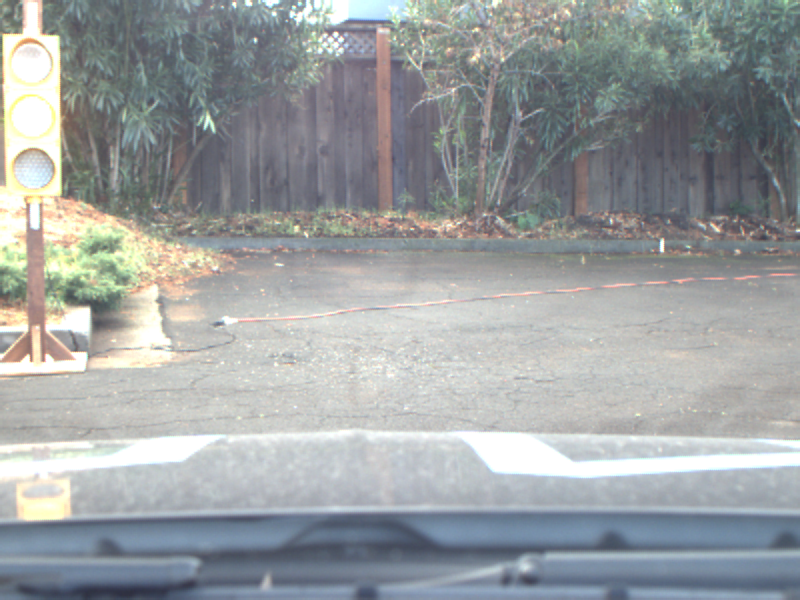Yellow: (2, 34, 64, 195)
